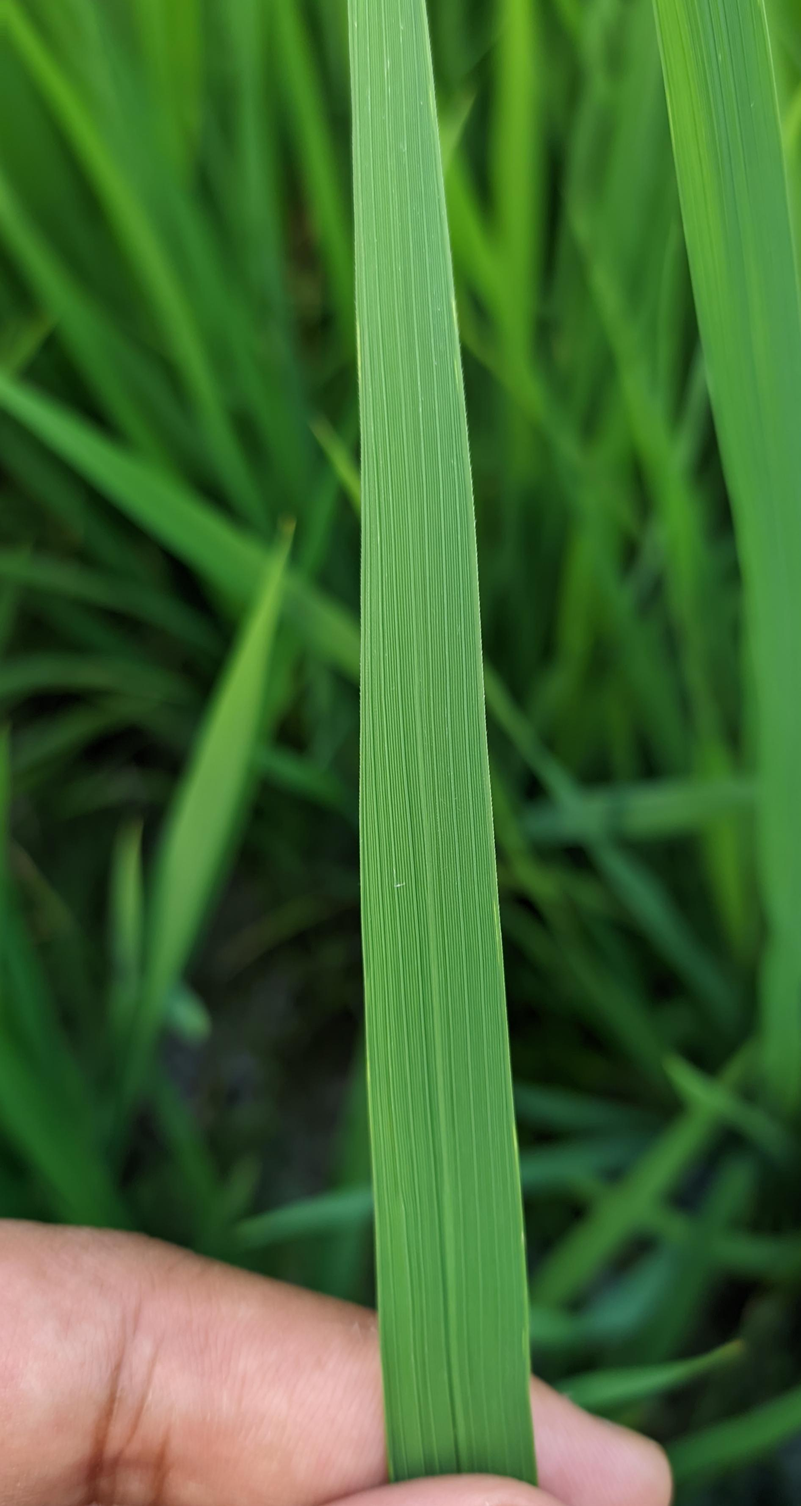Healthy: (349, 0, 539, 1489)
